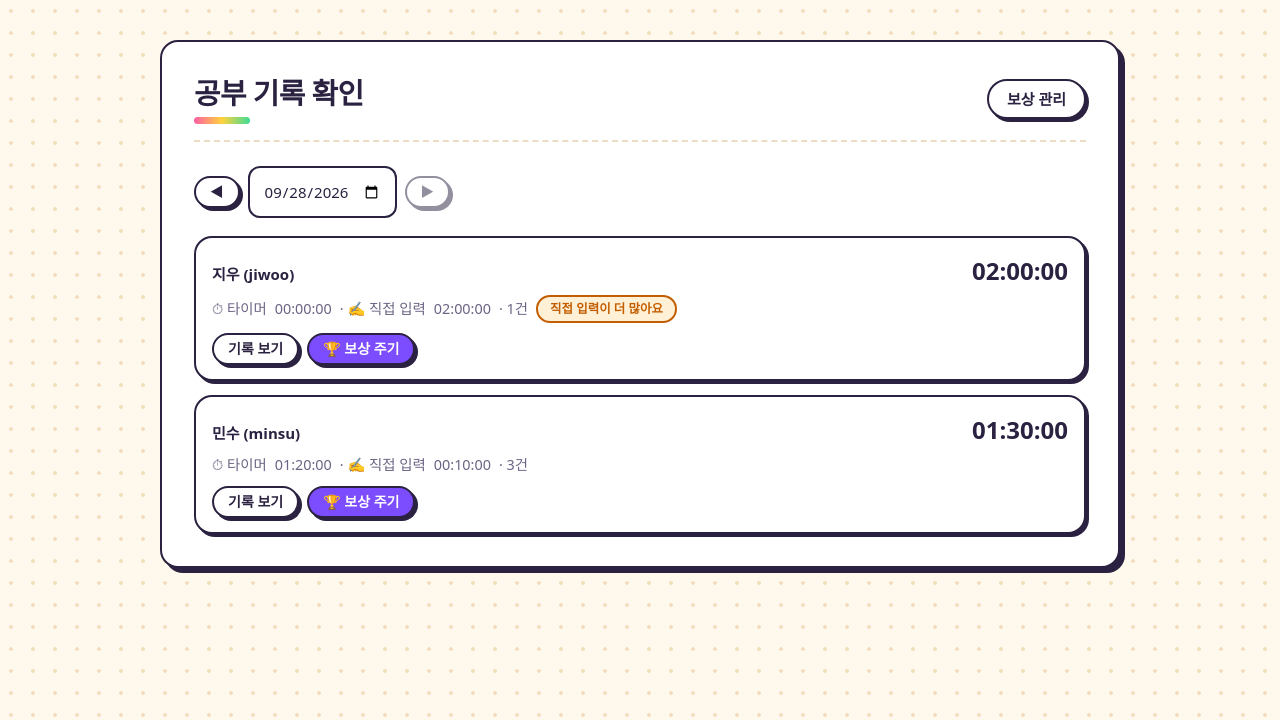
Test: StudyReviewPage › shows a student's records
The width and height of the screenshot is (1280, 720).
Click the button "기록 보기" below "민수 (minsu)" at (256, 502), box [212, 486, 299, 518]
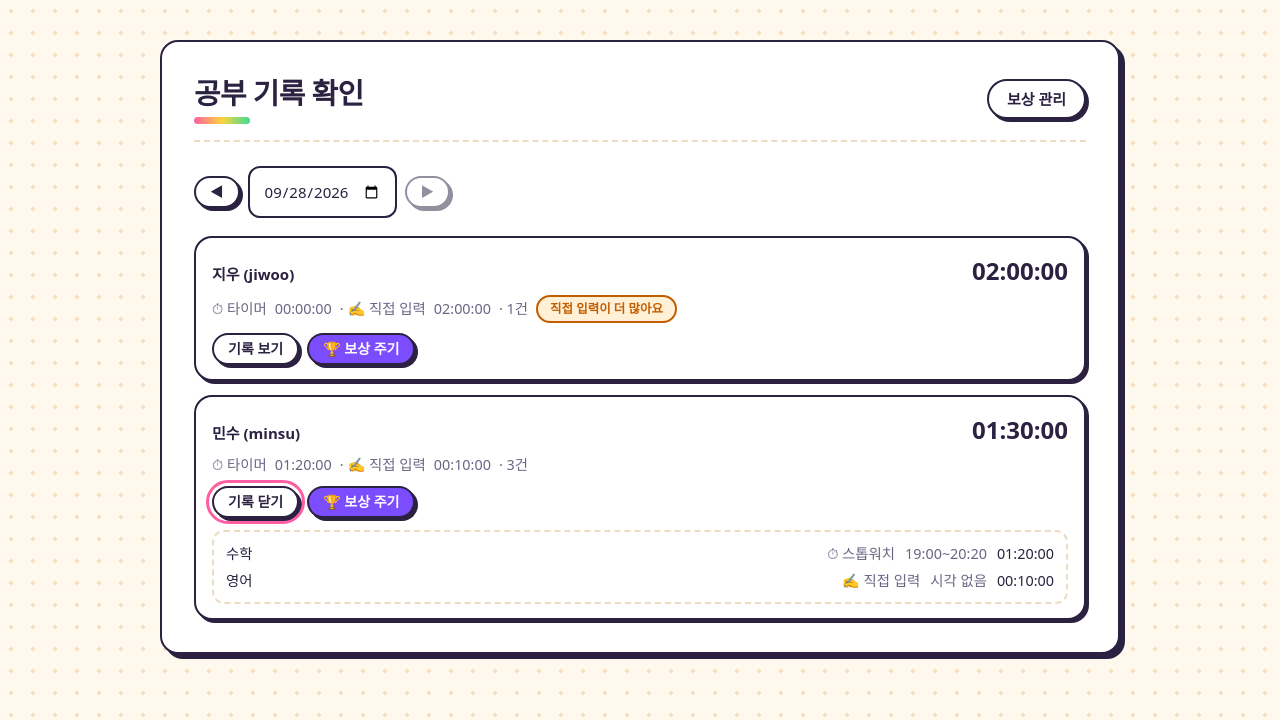
Result: the text "19:00~20:20" is shown at [905, 542, 987, 565]
Result: the text "✍️ 직접 입력" is shown at [842, 569, 920, 592]
